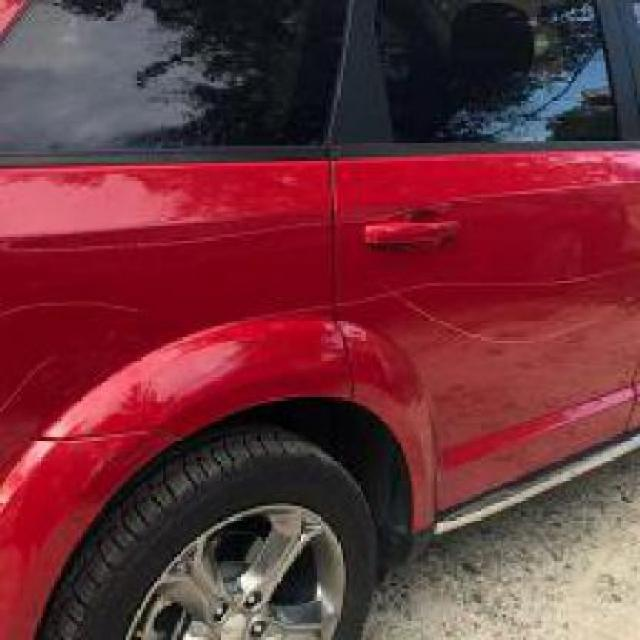dent-or-scratch: (2, 277, 638, 360)
